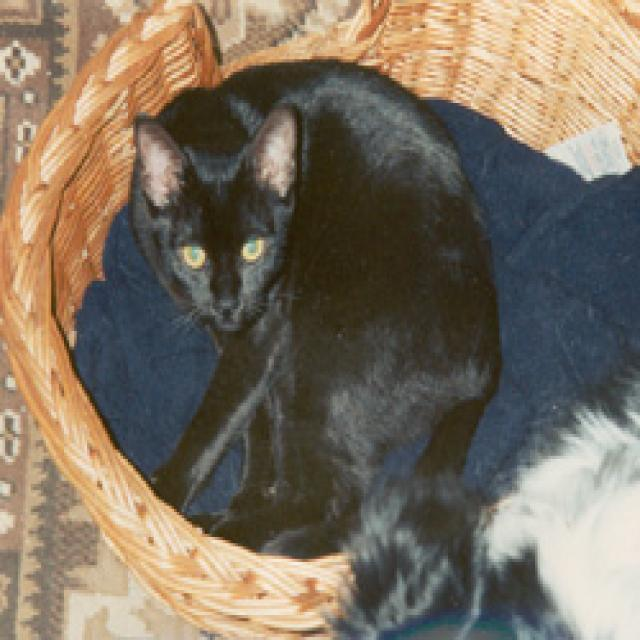Bombay: (134, 107, 317, 359)
